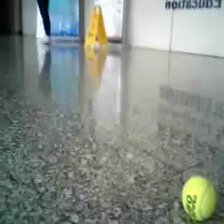tennis: (181, 176, 217, 222)
